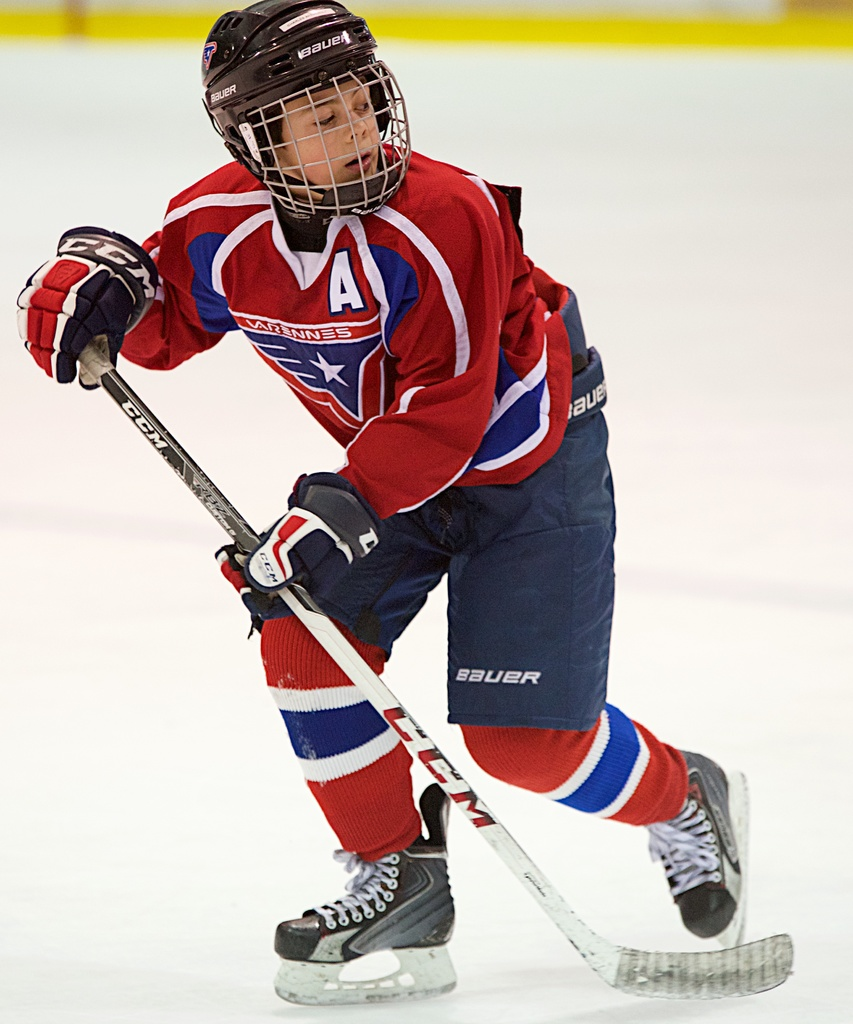Person: (15, 0, 743, 963)
